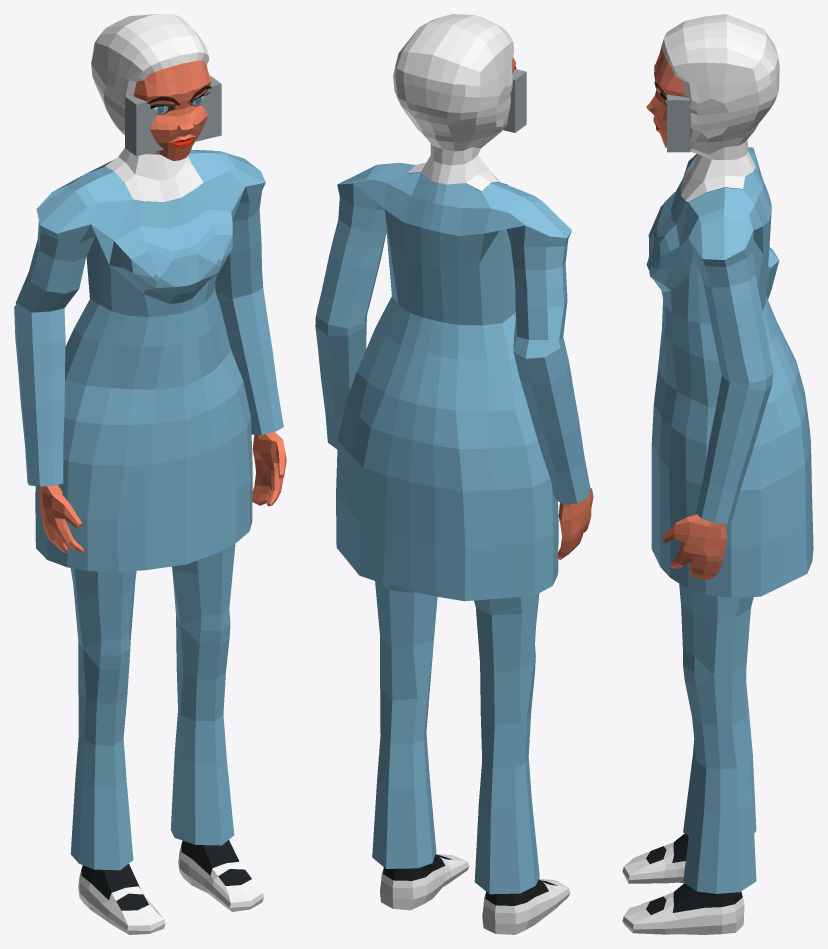
Rendered from Nurse_Stand_Mask.fbx.
The picture shows the model from 3 angles, left to right: view 1: azimuth 30°, elevation 25°; view 2: azimuth 150°, elevation 25°; view 3: azimuth 270°, elevation 25°; orthographic projection. The views are drawn at different scales.
Parts seen in each view (by area): view 1: Nurse_Stand_Mask; view 2: Nurse_Stand_Mask; view 3: Nurse_Stand_Mask.
Boxes of the visible parts, <box> form: Nurse_Stand_Mask: <box>14,14,286,934</box>; Nurse_Stand_Mask: <box>315,14,593,934</box>; Nurse_Stand_Mask: <box>622,14,813,934</box>.
Size of the model in its own units: 0.2819 by 0.9253 by 0.1823.
